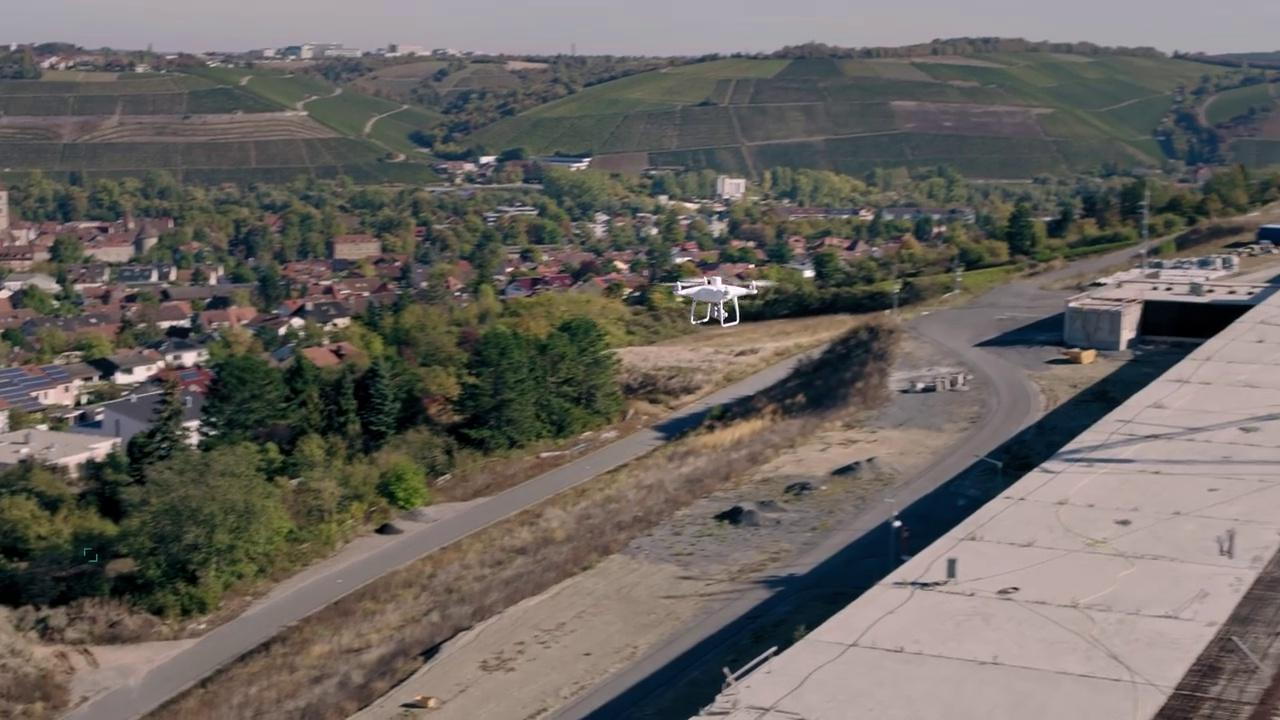drone: (657, 270, 780, 328)
